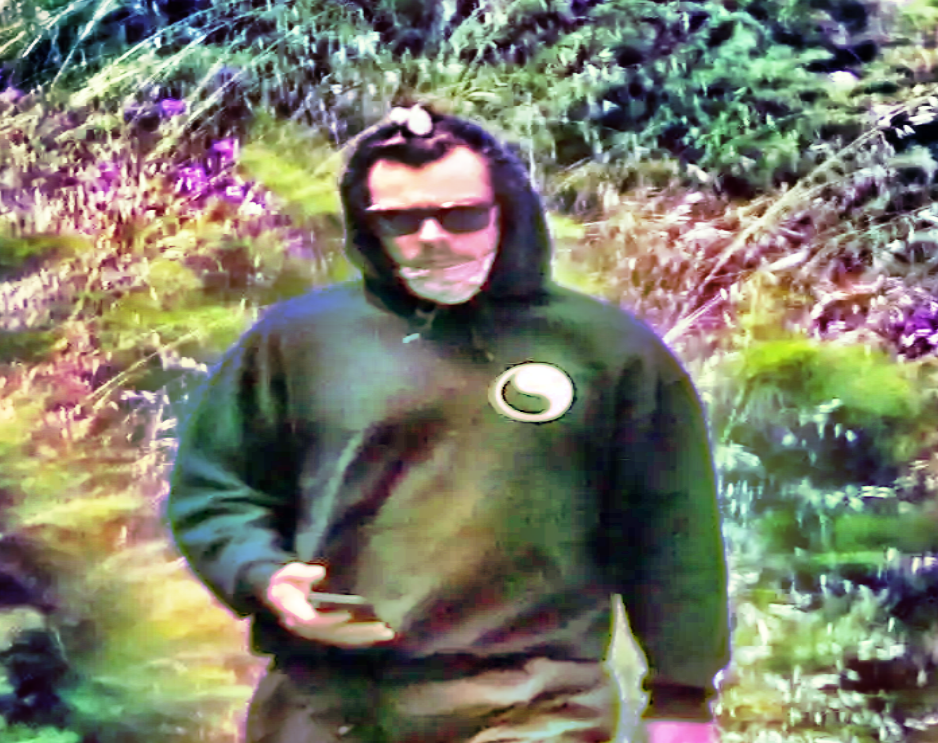mask_weared_incorrect: (342, 126, 526, 312)
